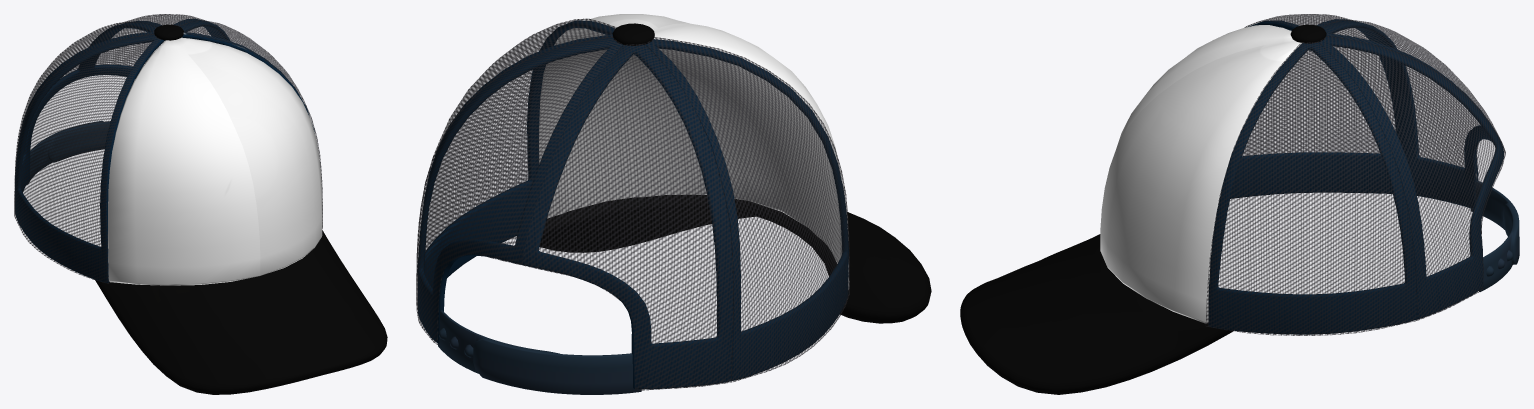
The model's file is gorra.glb.
The picture shows the model from 3 angles, left to right: view 1: azimuth 30°, elevation 25°; view 2: azimuth 150°, elevation 25°; view 3: azimuth 270°, elevation 25°; orthographic projection. The views are drawn at different scales.
Visible parts, largest first — view 1: Cap_M03_low, Cap_M04_low, Cap_M05_low, Cap_M01_low, Cap_M07_low, Cap_M06_low; view 2: Cap_M05_low, Cap_M01_low, Cap_M03_low, Cap_M04_low, Cap_M07_low, Cap_M06_low; view 3: Cap_M05_low, Cap_M01_low, Cap_M03_low, Cap_M04_low, Cap_M07_low, Cap_M06_low.
Part boxes in pixels (<box>): Cap_M03_low: <box>108,37,322,285</box>; Cap_M04_low: <box>95,230,387,394</box>; Cap_M05_low: <box>14,14,322,283</box>; Cap_M01_low: <box>15,18,314,282</box>; Cap_M07_low: <box>27,121,110,184</box>; Cap_M06_low: <box>154,24,183,40</box>; Cap_M05_low: <box>416,18,849,390</box>; Cap_M01_low: <box>417,20,848,389</box>; Cap_M03_low: <box>539,14,849,289</box>; Cap_M04_low: <box>517,195,931,323</box>; Cap_M07_low: <box>438,310,641,394</box>; Cap_M06_low: <box>612,23,654,45</box>; Cap_M05_low: <box>1205,14,1505,335</box>; Cap_M01_low: <box>1208,19,1503,334</box>; Cap_M03_low: <box>1100,25,1301,323</box>; Cap_M04_low: <box>960,234,1233,394</box>; Cap_M07_low: <box>1470,181,1519,291</box>; Cap_M06_low: <box>1290,24,1326,43</box>.
Bounding box in the file's own units: 3.24 × 3.15 × 5.22.
Materials: 1 (1 with a texture image).
